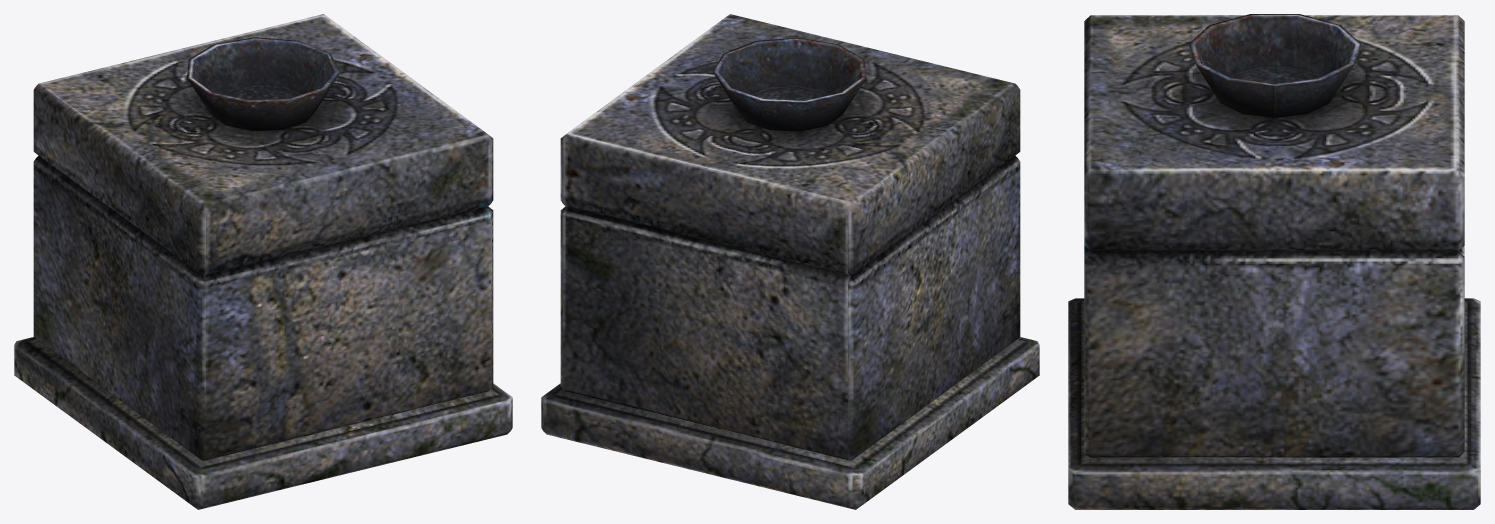
The model's file is altar-stone.dae.
3 views of the same model, side by side, from view 1: azimuth 30°, elevation 25°; view 2: azimuth 150°, elevation 25°; view 3: azimuth 270°, elevation 25° (orthographic). The views are drawn at different scales.
Visible parts, largest first — view 1: Altar, Bowl; view 2: Altar, Bowl; view 3: Altar, Bowl.
Part boxes in pixels (box(x1,y1,x2,y2)): Altar: box(14, 14, 512, 509); Bowl: box(187, 37, 340, 131); Altar: box(541, 14, 1039, 509); Bowl: box(713, 37, 866, 131); Altar: box(1068, 15, 1480, 509); Bowl: box(1189, 14, 1361, 117).
Size of the model in its own units: 0.7576 by 0.7627 by 0.7576.
Materials: 2 (2 with a texture image).
